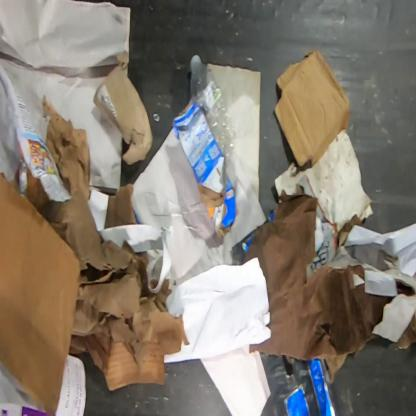cardboard: (0, 171, 82, 415), (173, 98, 238, 240), (274, 50, 351, 167), (94, 51, 154, 166), (306, 358, 339, 415), (105, 183, 138, 229), (283, 384, 312, 415), (394, 310, 415, 351)
rigid_plastic: (190, 53, 238, 194)
